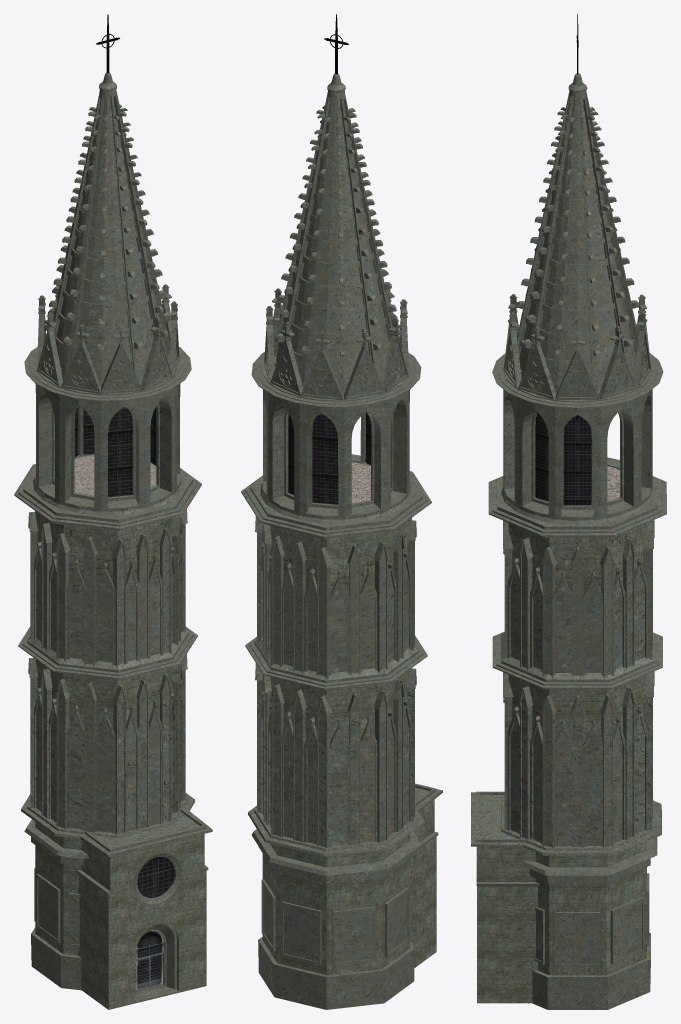
Rendered from torre-central.glb.
3 views of the same model, side by side, from view 1: azimuth 30°, elevation 25°; view 2: azimuth 150°, elevation 25°; view 3: azimuth 270°, elevation 25° (orthographic).
Parts seen in each view (by area): view 1: tower, cathedral_structure_structure, group27, group26; view 2: tower, cathedral_structure_structure, group27, group26; view 3: tower, cathedral_structure_structure, group27, group26.
Boxes of the visible parts, <box> form: tower: <box>24,14,191,515</box>; cathedral_structure_structure: <box>14,455,212,1009</box>; group27: <box>28,654,187,834</box>; group26: <box>28,509,187,666</box>; tower: <box>251,14,421,523</box>; cathedral_structure_structure: <box>241,461,442,1009</box>; group27: <box>255,663,416,848</box>; group26: <box>255,516,416,678</box>; tower: <box>492,14,663,524</box>; cathedral_structure_structure: <box>471,466,666,1009</box>; group27: <box>503,671,654,847</box>; group26: <box>503,519,654,677</box>.
Size of the model in its own units: 0.00953 by 0.057 by 0.0105.
Materials: 6 (5 with a texture image).
